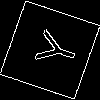Y: (25, 25, 81, 72)
